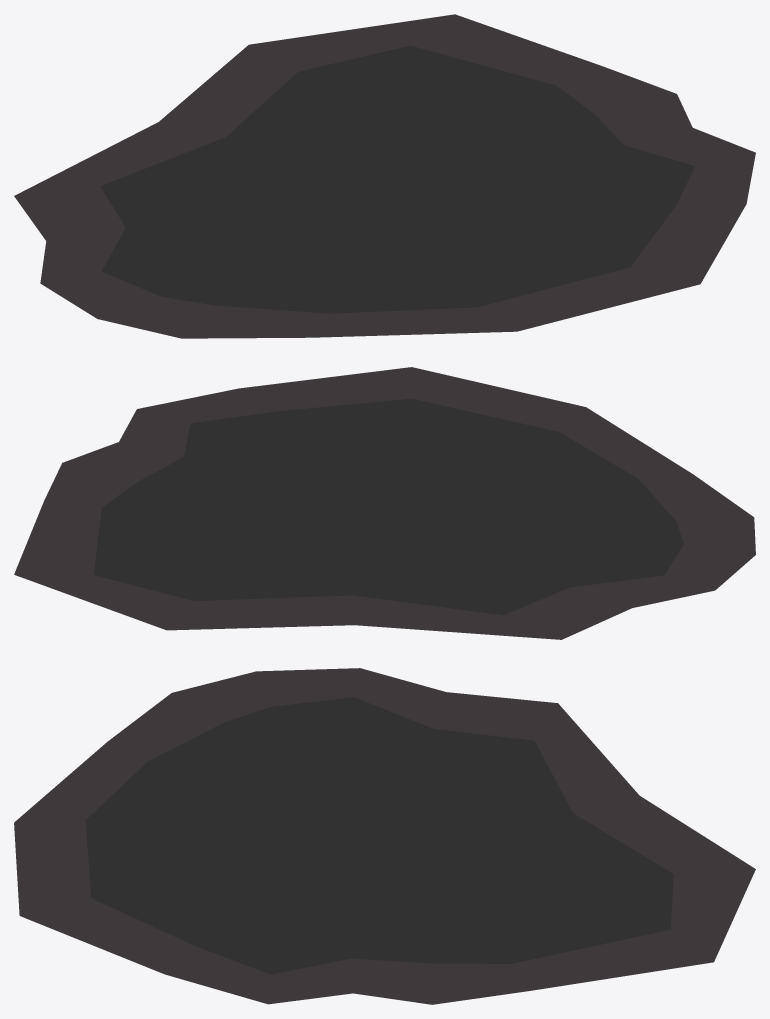
The model's file is Pothole1_light.glb.
The picture shows the model from 3 angles, top to bottom: view 1: azimuth 30°, elevation 25°; view 2: azimuth 150°, elevation 25°; view 3: azimuth 270°, elevation 25°; orthographic projection. The views are drawn at different scales.
Visible parts, largest first — view 1: Pothole1_light; view 2: Pothole1_light; view 3: Pothole1_light.
Boxes of the visible parts, <box> form: Pothole1_light: <box>14,14,755,338</box>; Pothole1_light: <box>14,367,755,639</box>; Pothole1_light: <box>14,668,755,1004</box>.
Size of the model in its own units: 2.67 by 5.52e-16 by 2.49.
1 material, 1 textured.
